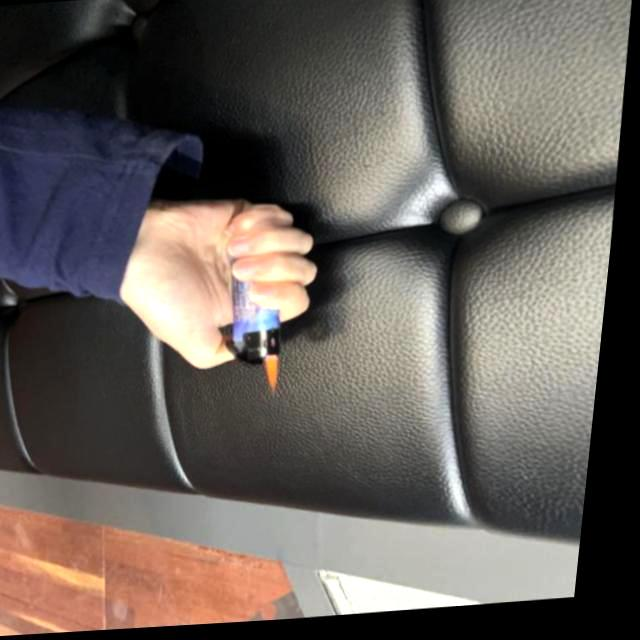fire: (271, 358, 289, 394)
